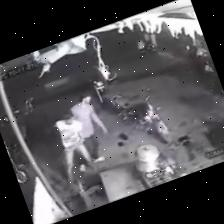person: (55, 114, 90, 186), (70, 95, 106, 163)
